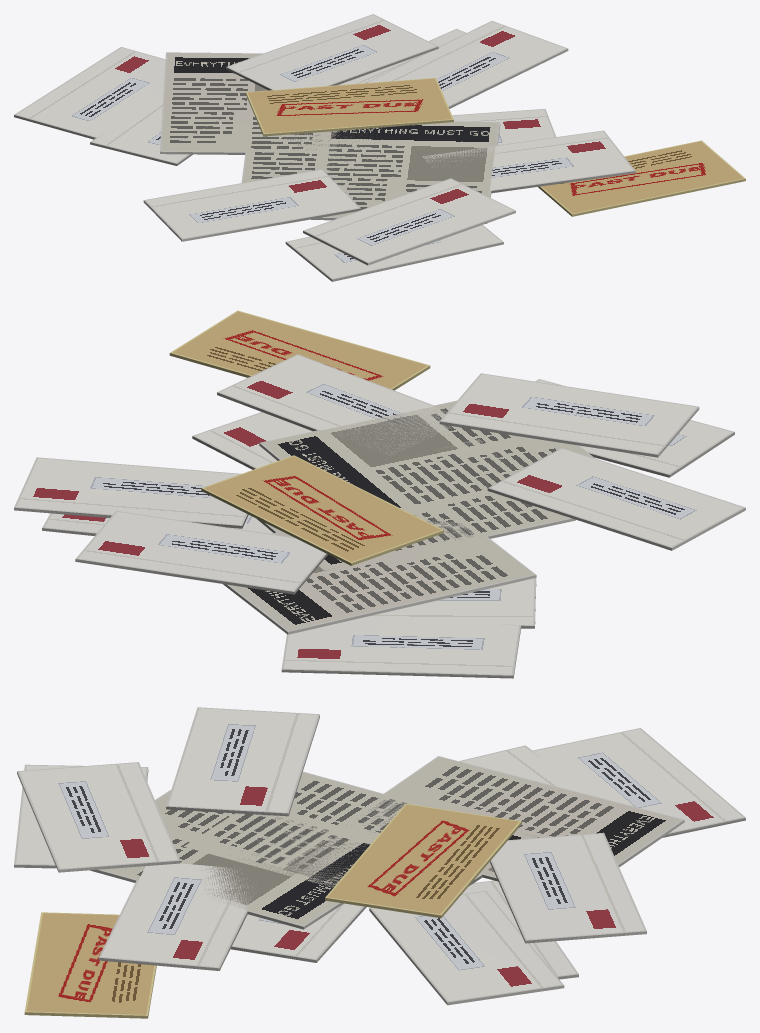
File: mail_pile.glb
The picture shows the model from 3 angles, top to bottom: view 1: azimuth 30°, elevation 25°; view 2: azimuth 150°, elevation 25°; view 3: azimuth 270°, elevation 25°; orthographic projection. The views are drawn at different scales.
Visible parts, largest first — view 1: panels, body; view 2: panels, body; view 3: panels, body.
Part boxes in pixels (bbox=[...]): panels: bbox=[16, 15, 743, 278]; body: bbox=[14, 14, 745, 281]; panels: bbox=[16, 311, 742, 674]; body: bbox=[14, 310, 745, 678]; panels: bbox=[16, 708, 742, 1014]; body: bbox=[14, 707, 745, 1018].
Size of the model in its own units: 0.6859 by 0.0206 by 0.71.
3 materials, 1 textured.
